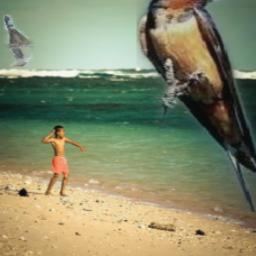Cuckoo: (3, 15, 34, 66)
Swallow: (137, 0, 256, 213)
